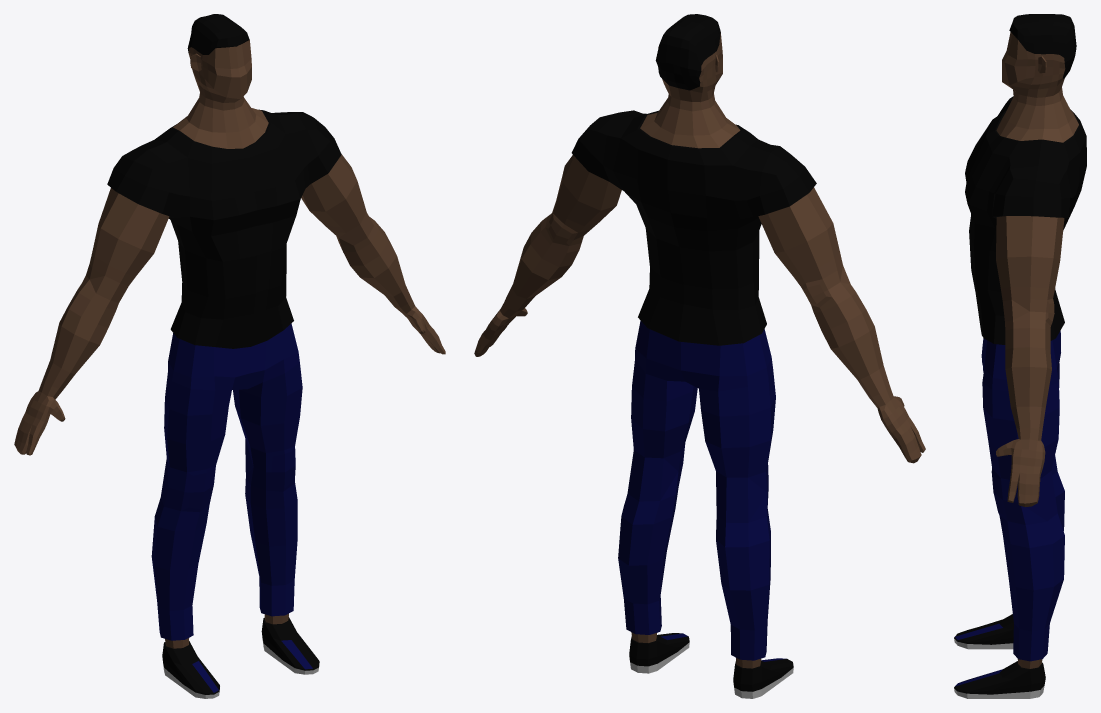
File: pedro.fbx
3 views of the same model, side by side, from view 1: azimuth 30°, elevation 25°; view 2: azimuth 150°, elevation 25°; view 3: azimuth 270°, elevation 25° (orthographic). The views are drawn at different scales.
Visible parts, largest first — view 1: Corpo; view 2: Corpo; view 3: Corpo.
Part boxes in pixels (box(x1,y1,x2,y2)): Corpo: box(14, 14, 445, 698); Corpo: box(474, 14, 925, 698); Corpo: box(954, 14, 1086, 698).
Bounding box in the file's own units: 122 × 176 × 32.56.
